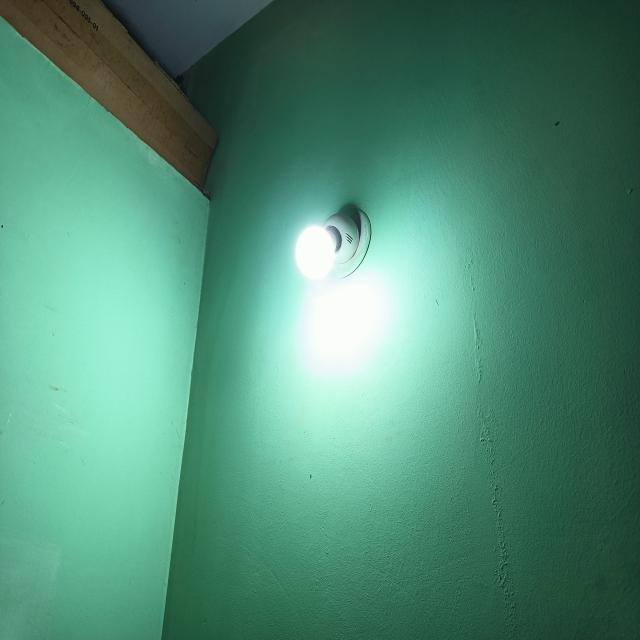bulb_on: (294, 223, 336, 282)
